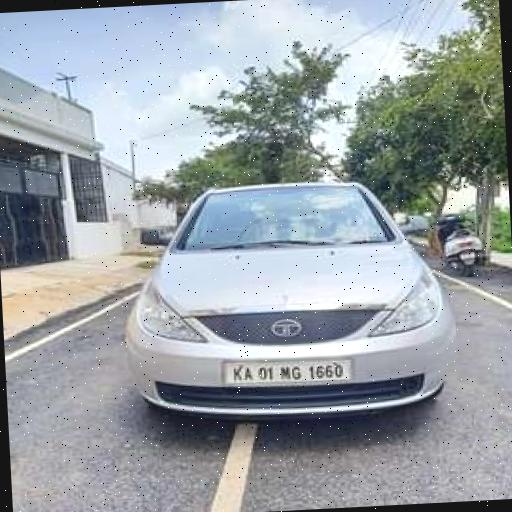license_plate`: (222, 356, 347, 386)
